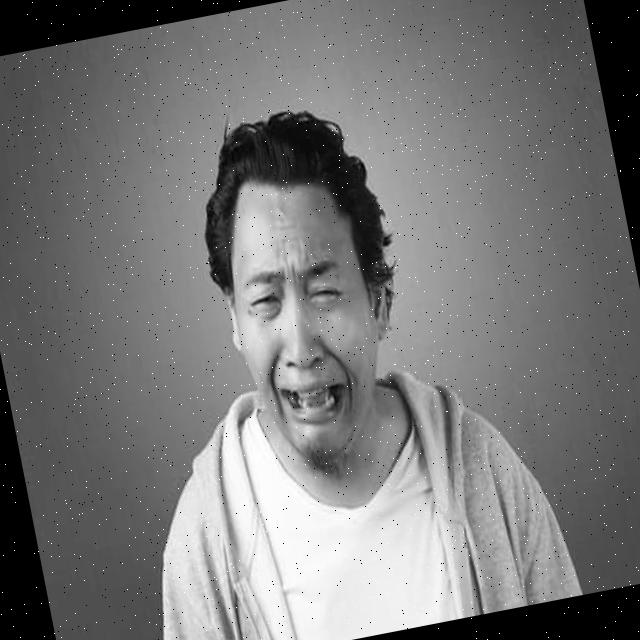Sadness: (224, 182, 382, 460)
